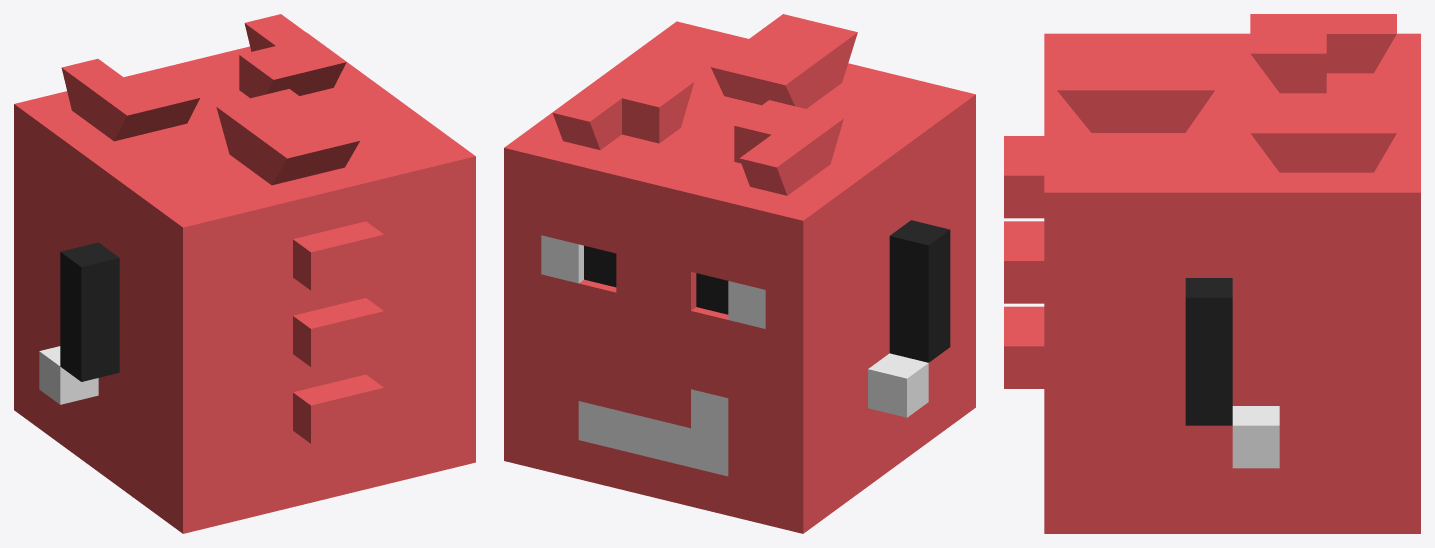
File: Player3.fbx
The picture shows the model from 3 angles, left to right: view 1: azimuth 30°, elevation 25°; view 2: azimuth 150°, elevation 25°; view 3: azimuth 270°, elevation 25°; orthographic projection. The views are drawn at different scales.
Parts seen in each view (by area): view 1: Player3; view 2: Player3; view 3: Player3.
Part boxes in pixels (box(x1,y1,x2,y2)): Player3: box(14, 14, 475, 533); Player3: box(504, 14, 975, 533); Player3: box(1004, 14, 1420, 533).
Size of the model in its own units: 150 by 135 by 133.
